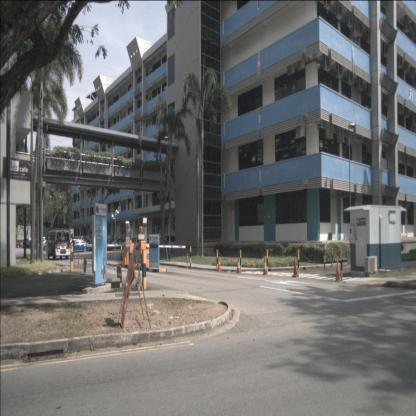human-pedestrian-adult: (71, 237, 75, 256)
movable_object-trafficcone: (292, 258, 298, 278), (335, 263, 341, 282), (262, 258, 268, 275), (216, 256, 222, 272), (236, 257, 241, 274), (77, 253, 80, 270), (74, 253, 76, 270), (186, 253, 188, 269)
vehicle-car: (44, 230, 71, 259), (68, 239, 90, 252), (90, 238, 112, 251), (110, 239, 125, 248), (115, 240, 129, 249), (10, 240, 20, 248)
